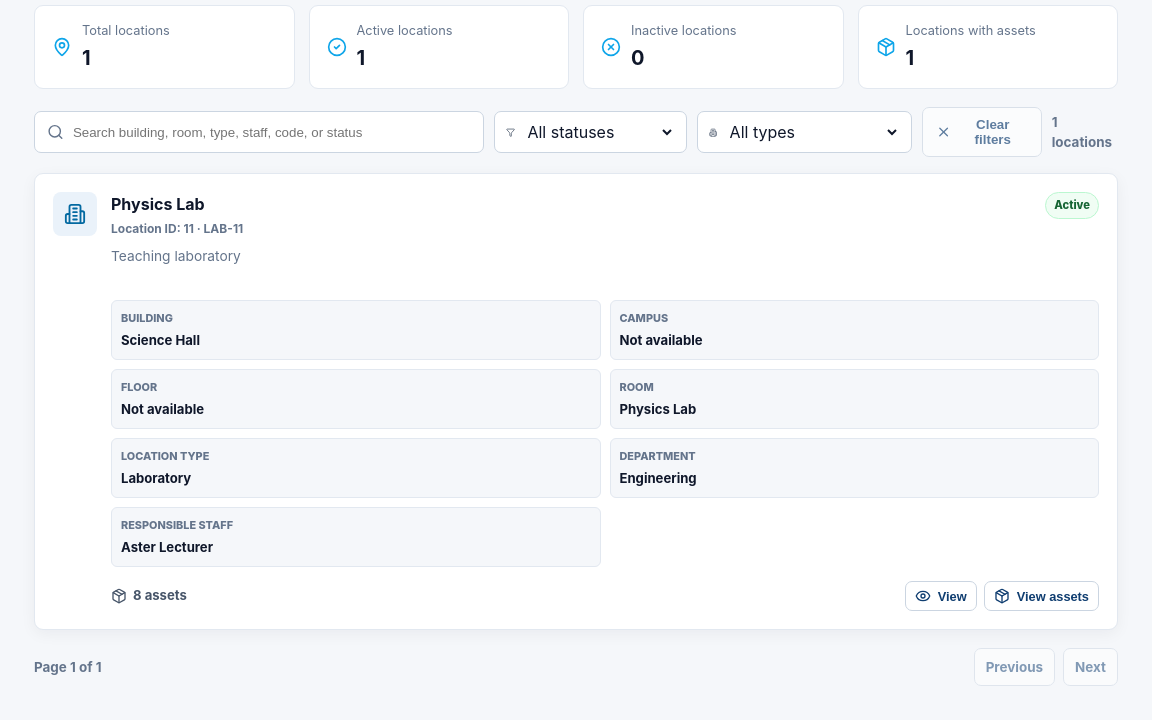
Department Head locations › loads assets only through the selected authorized location endpoint
The width and height of the screenshot is (1152, 720).
(page scrolled)
Click the button "View assets" at (1041, 596), box [984, 581, 1099, 611]
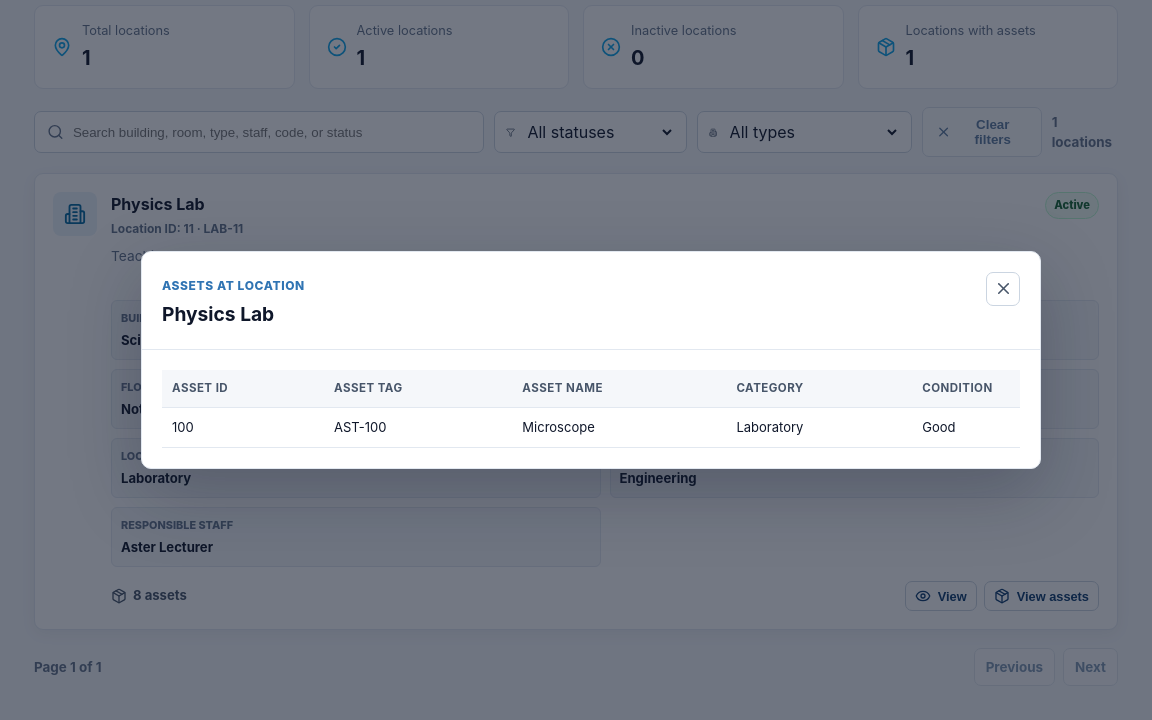
Check: the dialog "Physics Lab" shows "Microscope", box [522, 419, 595, 435]
